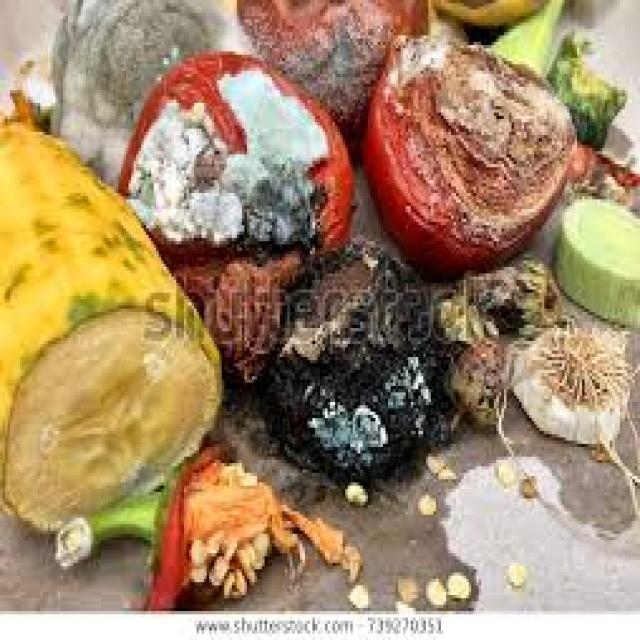organic waste: (0, 109, 219, 531), (118, 48, 350, 331), (358, 26, 577, 270), (53, 441, 338, 611), (254, 235, 443, 466), (48, 0, 252, 170), (232, 0, 431, 158), (509, 312, 637, 502), (550, 193, 638, 318), (542, 32, 627, 142), (204, 257, 277, 383), (431, 0, 564, 61), (451, 254, 554, 328), (441, 341, 504, 431), (562, 138, 637, 209), (8, 42, 60, 135), (426, 283, 491, 347), (421, 569, 443, 608), (338, 530, 358, 572), (444, 569, 466, 598), (502, 556, 522, 586), (514, 469, 534, 498), (343, 582, 365, 608), (343, 470, 365, 495), (391, 589, 413, 611), (582, 444, 612, 457), (408, 489, 431, 505), (391, 576, 413, 592), (489, 457, 504, 479), (436, 463, 451, 473), (426, 454, 436, 463)
